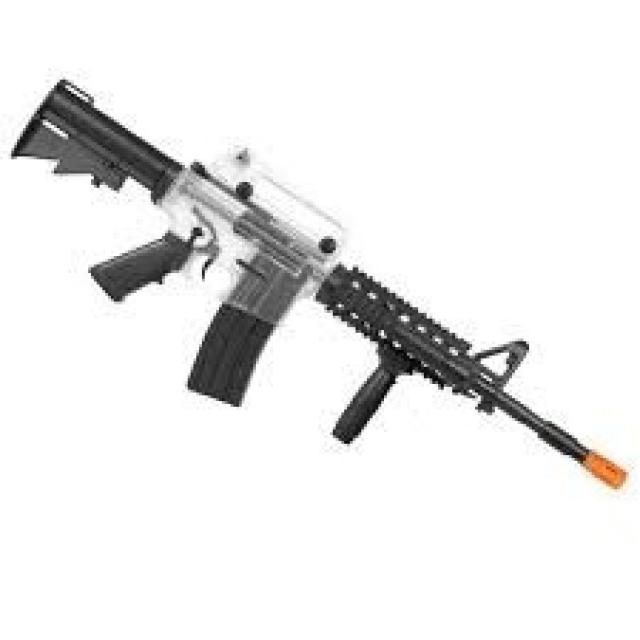rifle: (11, 63, 632, 494)
